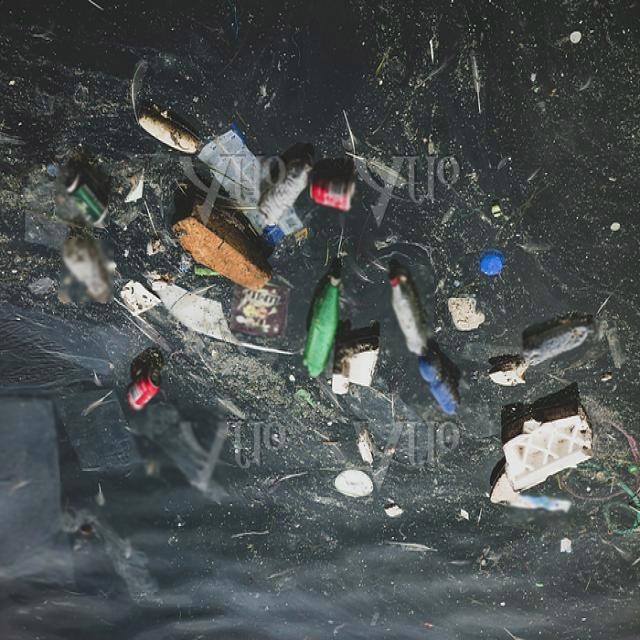Metal: (58, 164, 115, 226), (296, 172, 366, 215), (125, 370, 164, 413)
Plastic: (488, 472, 576, 517), (388, 270, 428, 366), (262, 156, 314, 229)
Trash: (198, 126, 318, 260), (157, 270, 288, 367), (501, 407, 597, 493), (302, 270, 345, 386), (232, 272, 285, 337), (530, 316, 590, 369), (333, 341, 381, 393), (122, 275, 164, 317), (446, 295, 489, 334), (332, 468, 380, 500), (493, 360, 532, 388), (479, 250, 507, 280)
